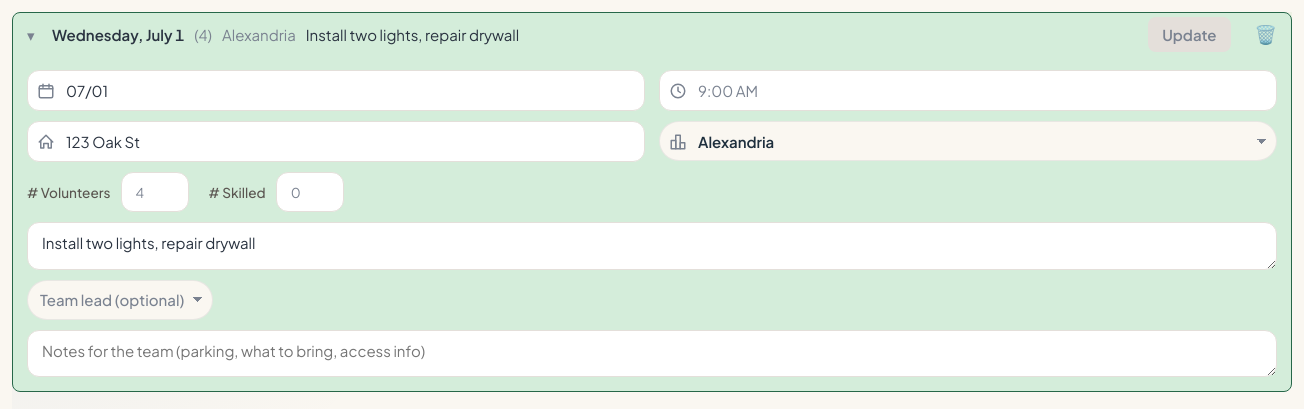
it: TaskEditorRow › Update is disabled until the form is dirty AND valid
This screenshot has width=1304, height=409.
Check: the button with aria-label "update task" is disabled, box [1148, 17, 1230, 52]
Replace the text in the text box named "Task description" with "Roof rebuild". click: (652, 246)
box: [27, 222, 1277, 270]
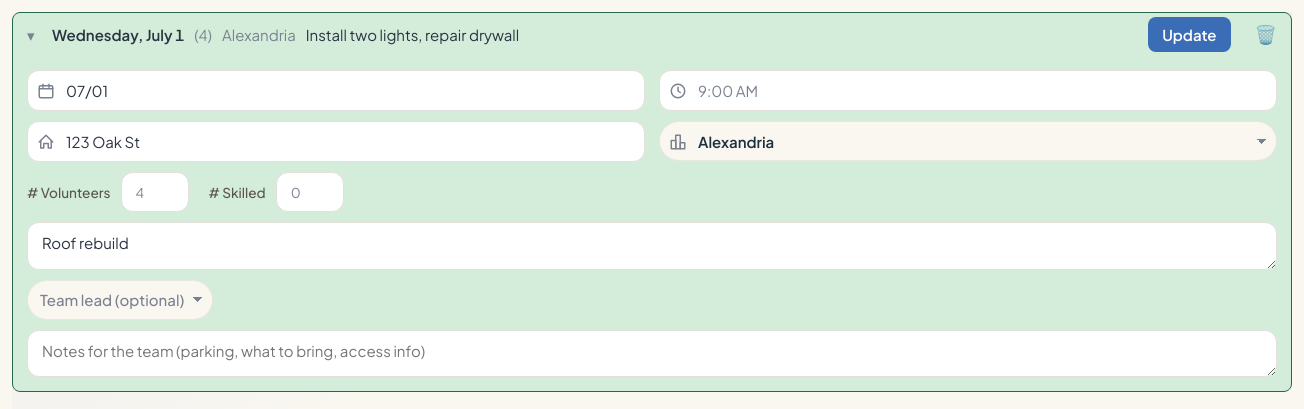
Check: the button with aria-label "update task" is enabled, box [1148, 17, 1230, 52]
# Wipe a required field → Update goes back to disabled.
Clear the text box named "Task description". click: (652, 246)
box: [27, 222, 1277, 270]
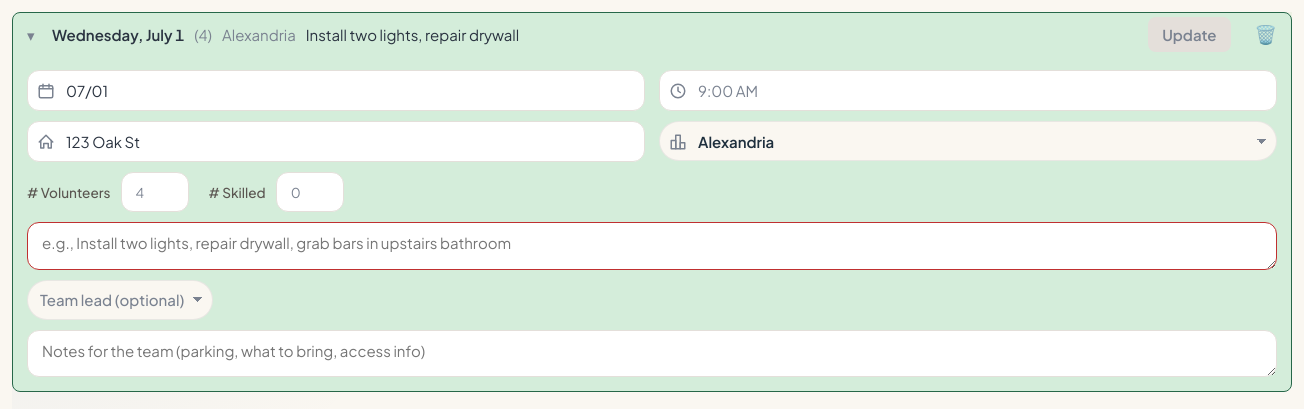
Check: the button with aria-label "update task" is disabled, box [1148, 17, 1230, 52]
